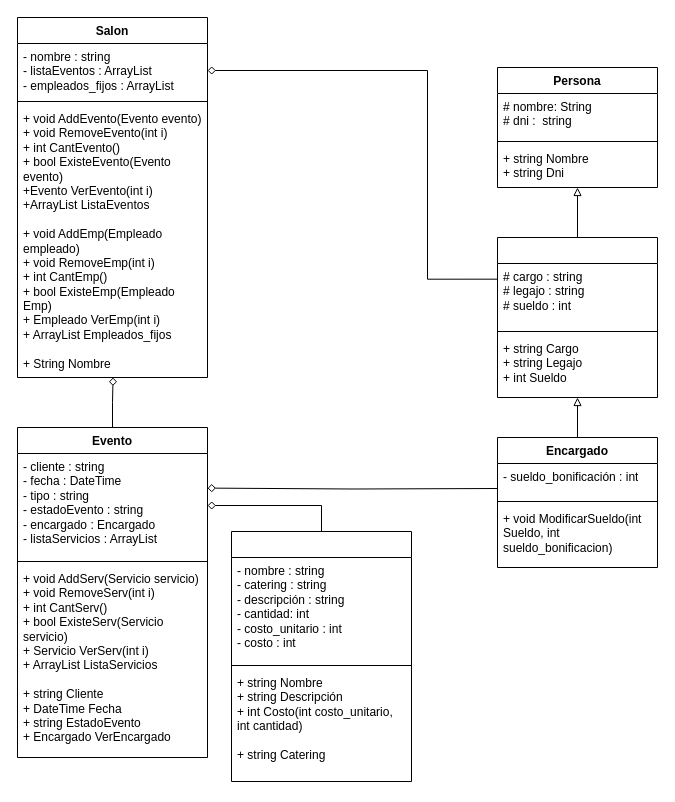
Some shapes in this 675 by 802 pixel diagram are drawn without their labels. Each missing label, with the box of its shape:
Empleado: (496, 236, 658, 398)
Servicio: (230, 530, 412, 782)
